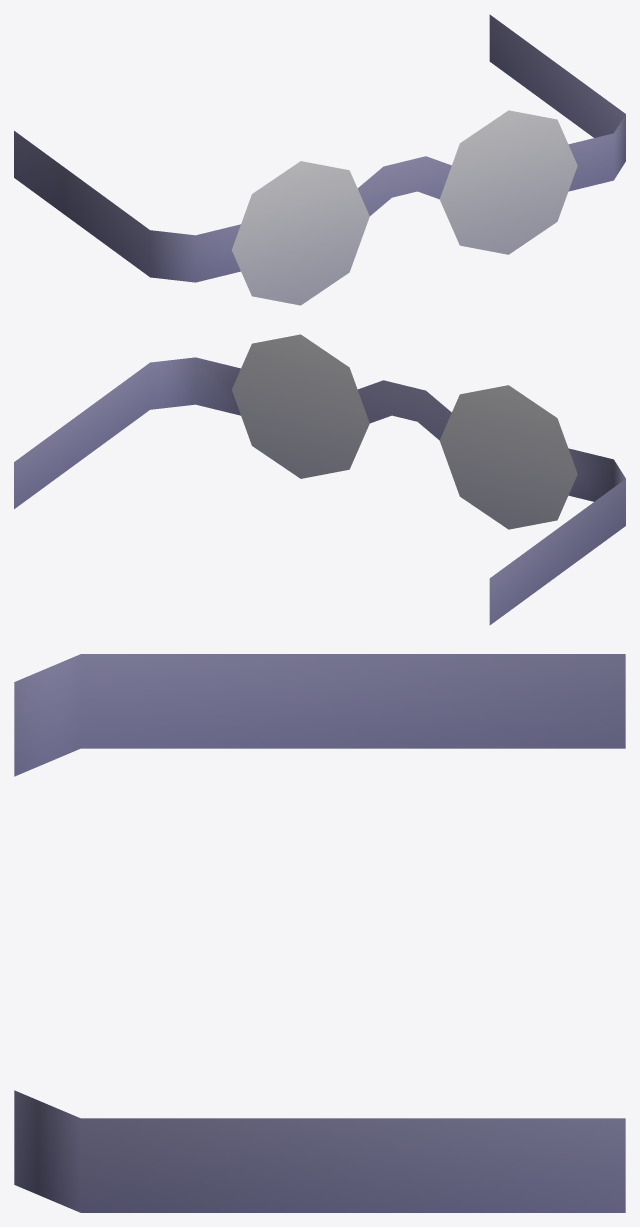
The model's file is aid-glasses.glb.
The picture shows the model from 3 angles, top to bottom: view 1: azimuth 30°, elevation 25°; view 2: azimuth 150°, elevation 25°; view 3: azimuth 270°, elevation 25°; orthographic projection. The views are drawn at different scales.
Visible parts, largest first — view 1: aid-glasses; view 2: aid-glasses; view 3: aid-glasses.
Part boxes in pixels (bbox=[...]): aid-glasses: bbox=[14, 14, 625, 305]; aid-glasses: bbox=[14, 334, 625, 625]; aid-glasses: bbox=[14, 654, 625, 1212].
Size of the model in its own units: 0.33 by 0.0958 by 0.1836.
Materials: 1 (1 with a texture image).
